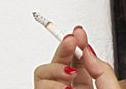smoke: (32, 11, 84, 60)
